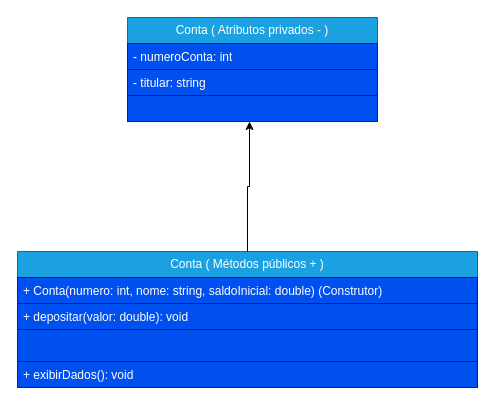
Image size: 495x408. Some labels were removed from this diagram. Here are the shapes that lost their labels. From the top down, the centre of each, then its label:
At (252,108): "- saldo: double".
At (247,345): "+ sacar(valor: double): void".
